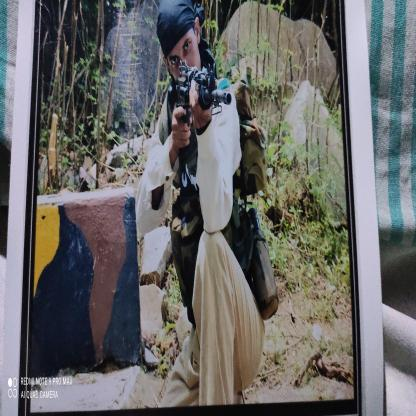rifle: (167, 58, 233, 128)
